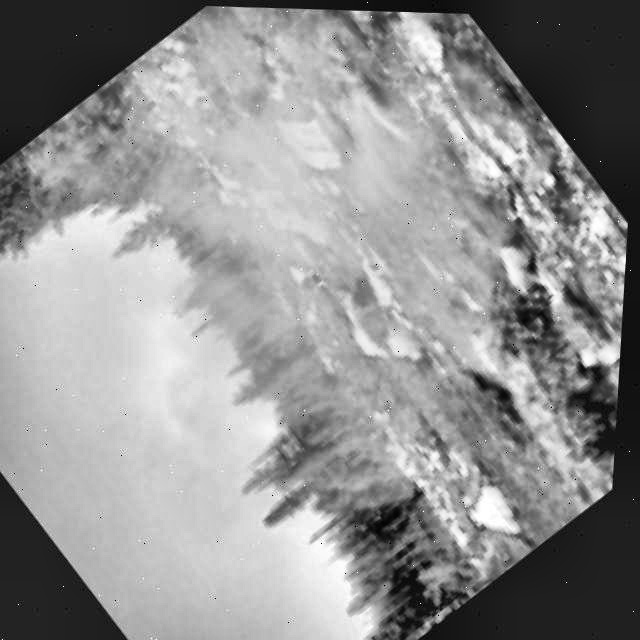Smoke: (0, 5, 631, 640)
